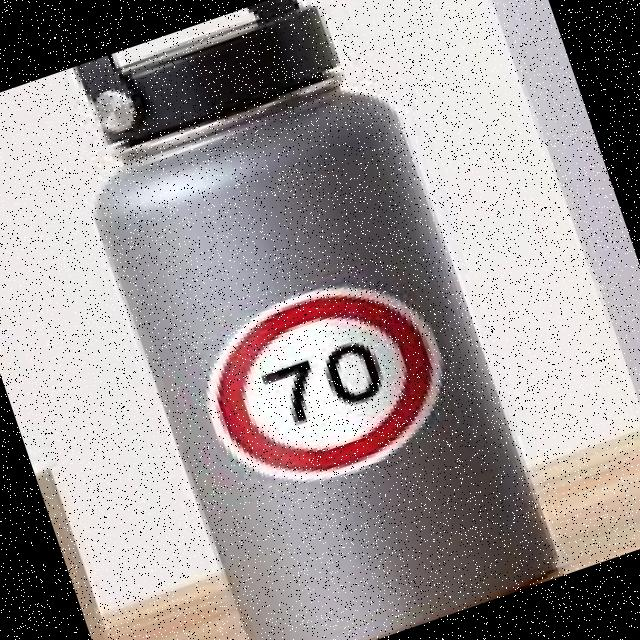speed_limit_70: (175, 249, 482, 510)
